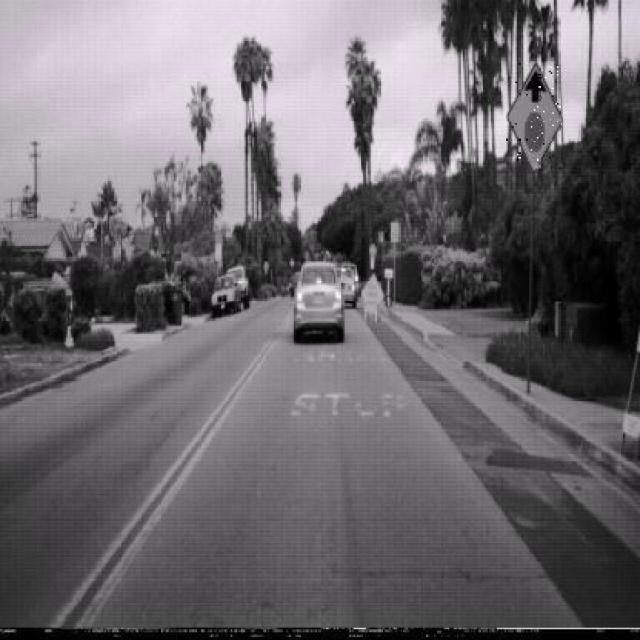stopAhead: (506, 60, 564, 172)
